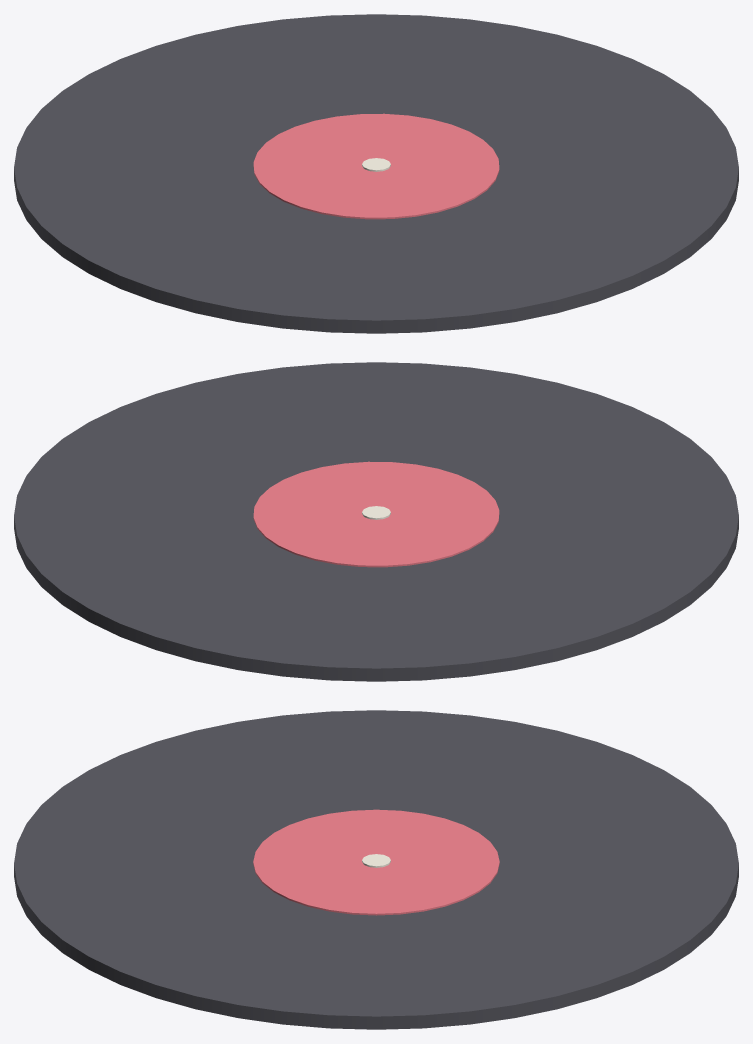
The model's file is vinyl.glb.
3 views of the same model, one above another, from view 1: azimuth 30°, elevation 25°; view 2: azimuth 150°, elevation 25°; view 3: azimuth 270°, elevation 25° (orthographic).
Parts seen in each view (by area): view 1: vinyl; view 2: vinyl; view 3: vinyl.
Part boxes in pixels (x1=…): vinyl: x1=14, y1=14, x2=738, y2=333; vinyl: x1=14, y1=362, x2=738, y2=681; vinyl: x1=14, y1=710, x2=738, y2=1029.
Size of the model in its own units: 2 by 0.06 by 2.
